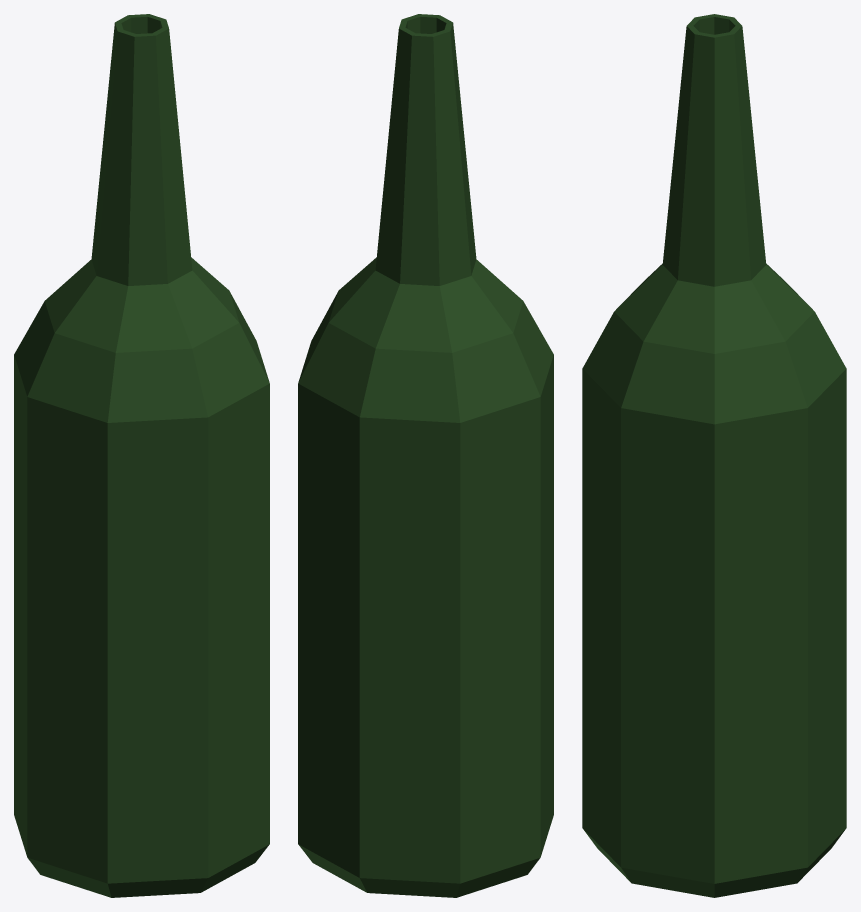
File: BottleGlass.fbx
The picture shows the model from 3 angles, left to right: view 1: azimuth 30°, elevation 25°; view 2: azimuth 150°, elevation 25°; view 3: azimuth 270°, elevation 25°; orthographic projection.
Parts seen in each view (by area): view 1: pCylinder1; view 2: pCylinder1; view 3: pCylinder1.
Part boxes in pixels (bbox=[...]): pCylinder1: bbox=[14, 14, 269, 897]; pCylinder1: bbox=[298, 14, 553, 897]; pCylinder1: bbox=[582, 14, 846, 897].
Size of the model in its own units: 1.73 by 5.93 by 1.73.
